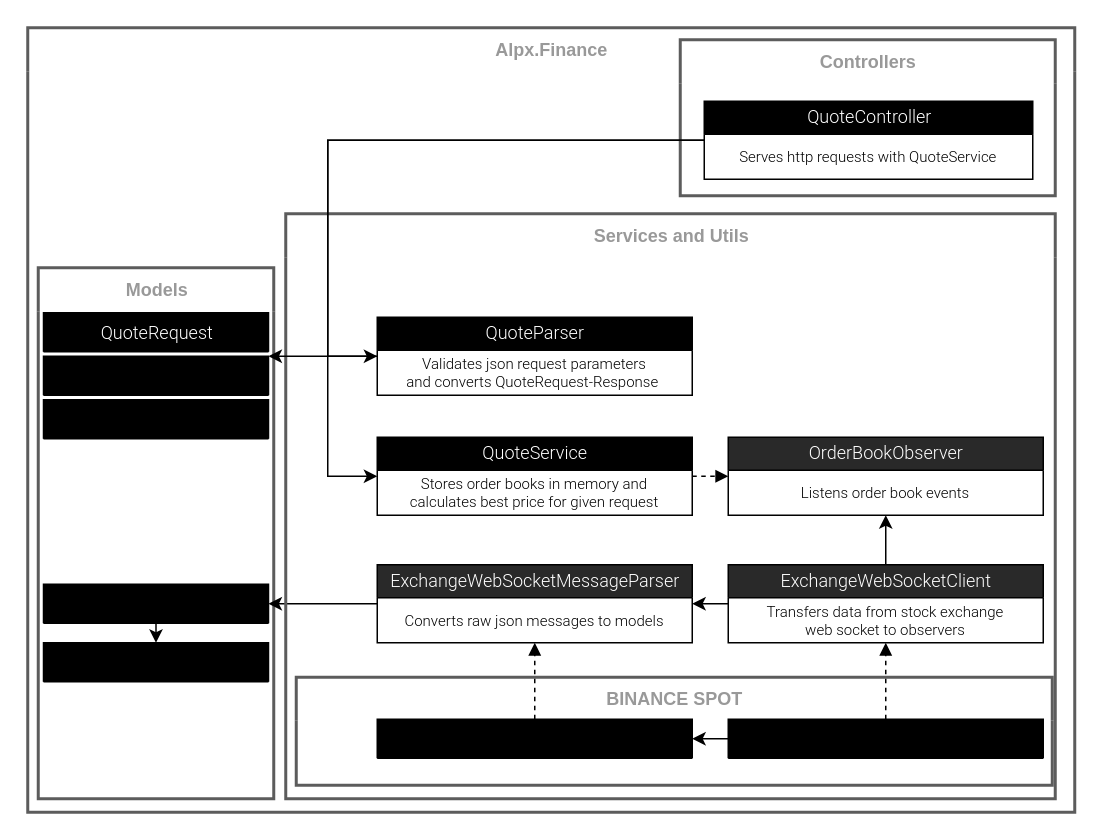
The diagram is 1101 pixels wide and 839 high, and some of its shapes have lost their labels. The centre of each missing label's shape, as x and y in pixels:
"BinanceSpotWebSocketClient" belongs at point (885, 738).
"BinanceSpotWebSocketMessageParser" belongs at point (534, 738).
"ErrorMessage" belongs at point (155, 418).
"LimitOrder" belongs at point (155, 661).
"LimitOrderBook" belongs at point (155, 603).
"QuoteResponse" belongs at point (155, 375).
